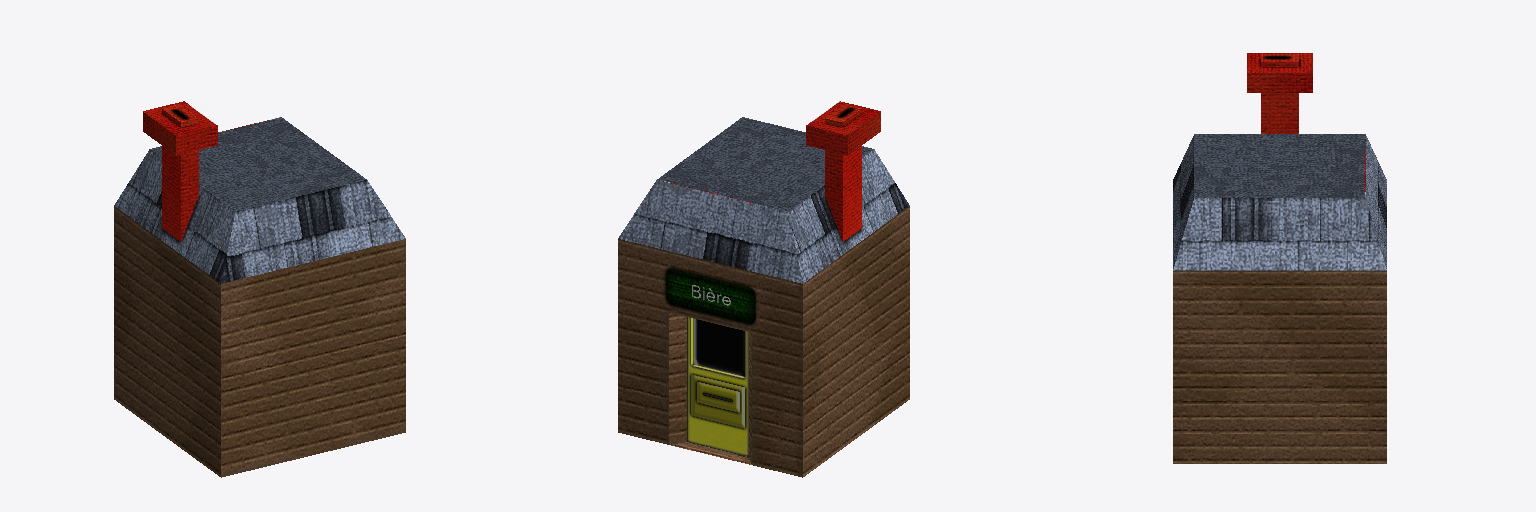
The picture shows the model from 3 angles: view 1: azimuth 30°, elevation 25°; view 2: azimuth 150°, elevation 25°; view 3: azimuth 270°, elevation 25°; orthographic projection.
Parts seen in each view (by area): view 1: Cube3_copy13; view 2: Cube3_copy13; view 3: Cube3_copy13.
Part boxes in pixels (left/top/right/bottom): Cube3_copy13: left=114, top=101, right=405, bottom=477; Cube3_copy13: left=618, top=101, right=909, bottom=477; Cube3_copy13: left=1173, top=53, right=1386, bottom=463.
Bounding box in the file's own units: 286 × 455 × 274.
Materials: 1 (1 with a texture image).